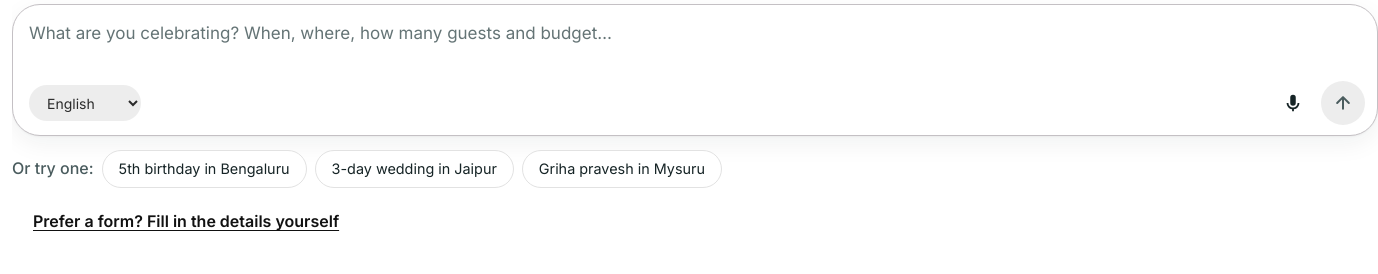
it: VoiceStart › asks for more detail when the message is too short
Type "party" into the text box named "Describe your event" at (697, 49), box [29,17,1365,81]
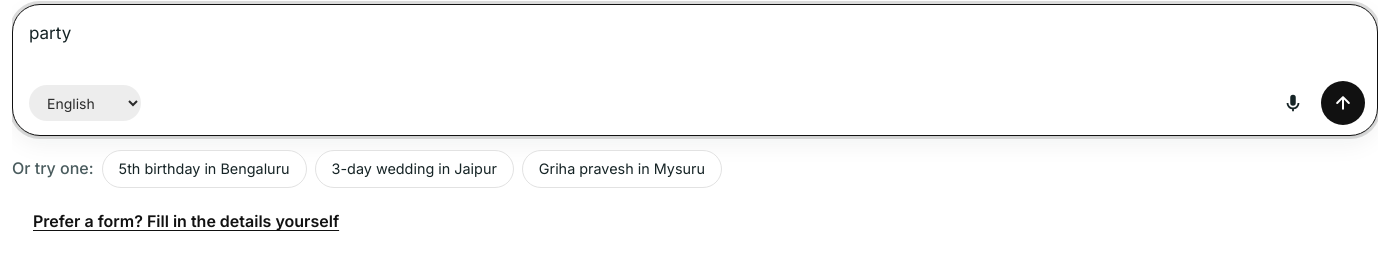
Click the button named "Continue" at (1343, 103), box [1321,81,1365,125]
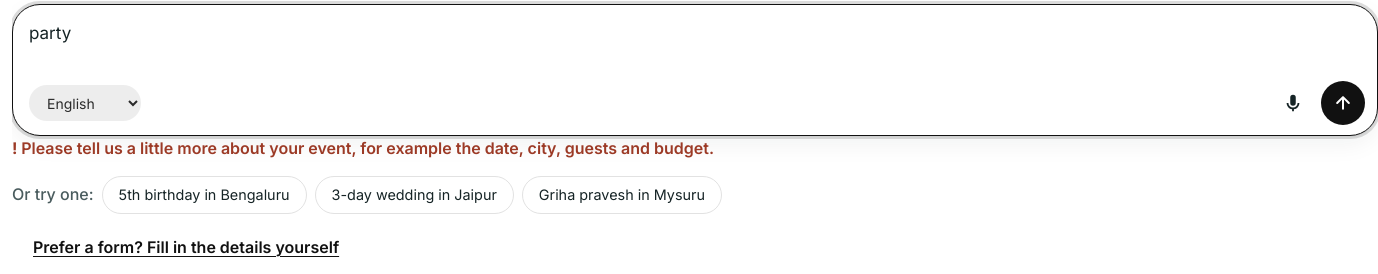
Check: the message shows "a little more", box [21,138,714,158]
